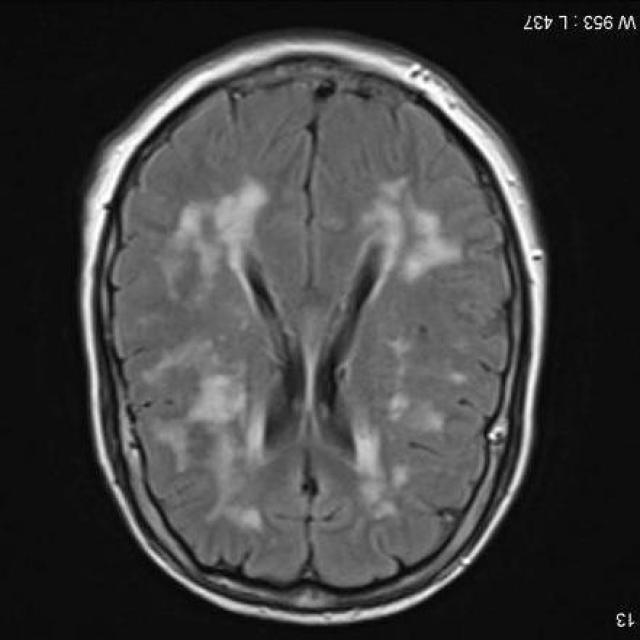notumor: (80, 33, 546, 624)
